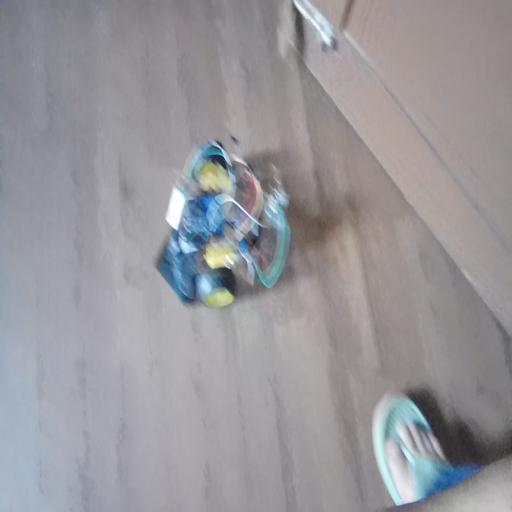car: (168, 135, 273, 288)
